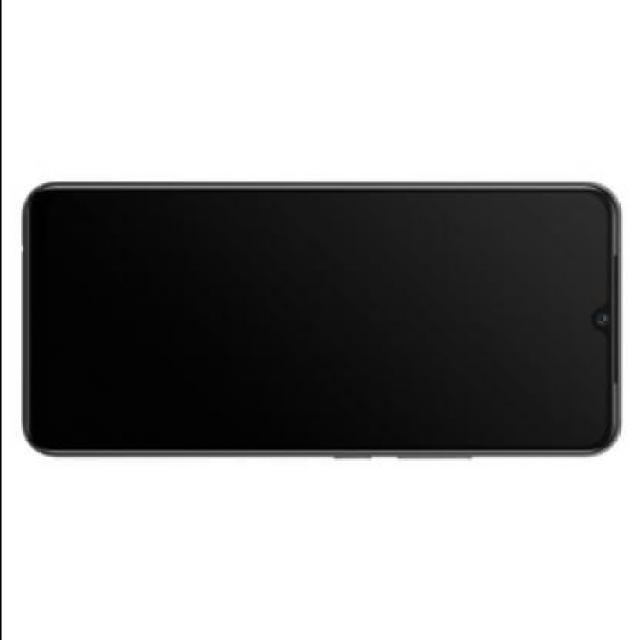phone: (20, 181, 623, 461)
